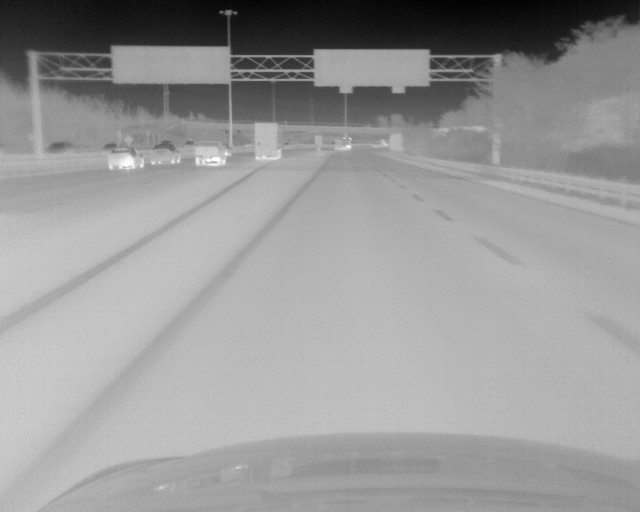car: (255, 122, 283, 159), (106, 147, 144, 170), (195, 141, 225, 165), (150, 143, 180, 164), (333, 137, 354, 152)
